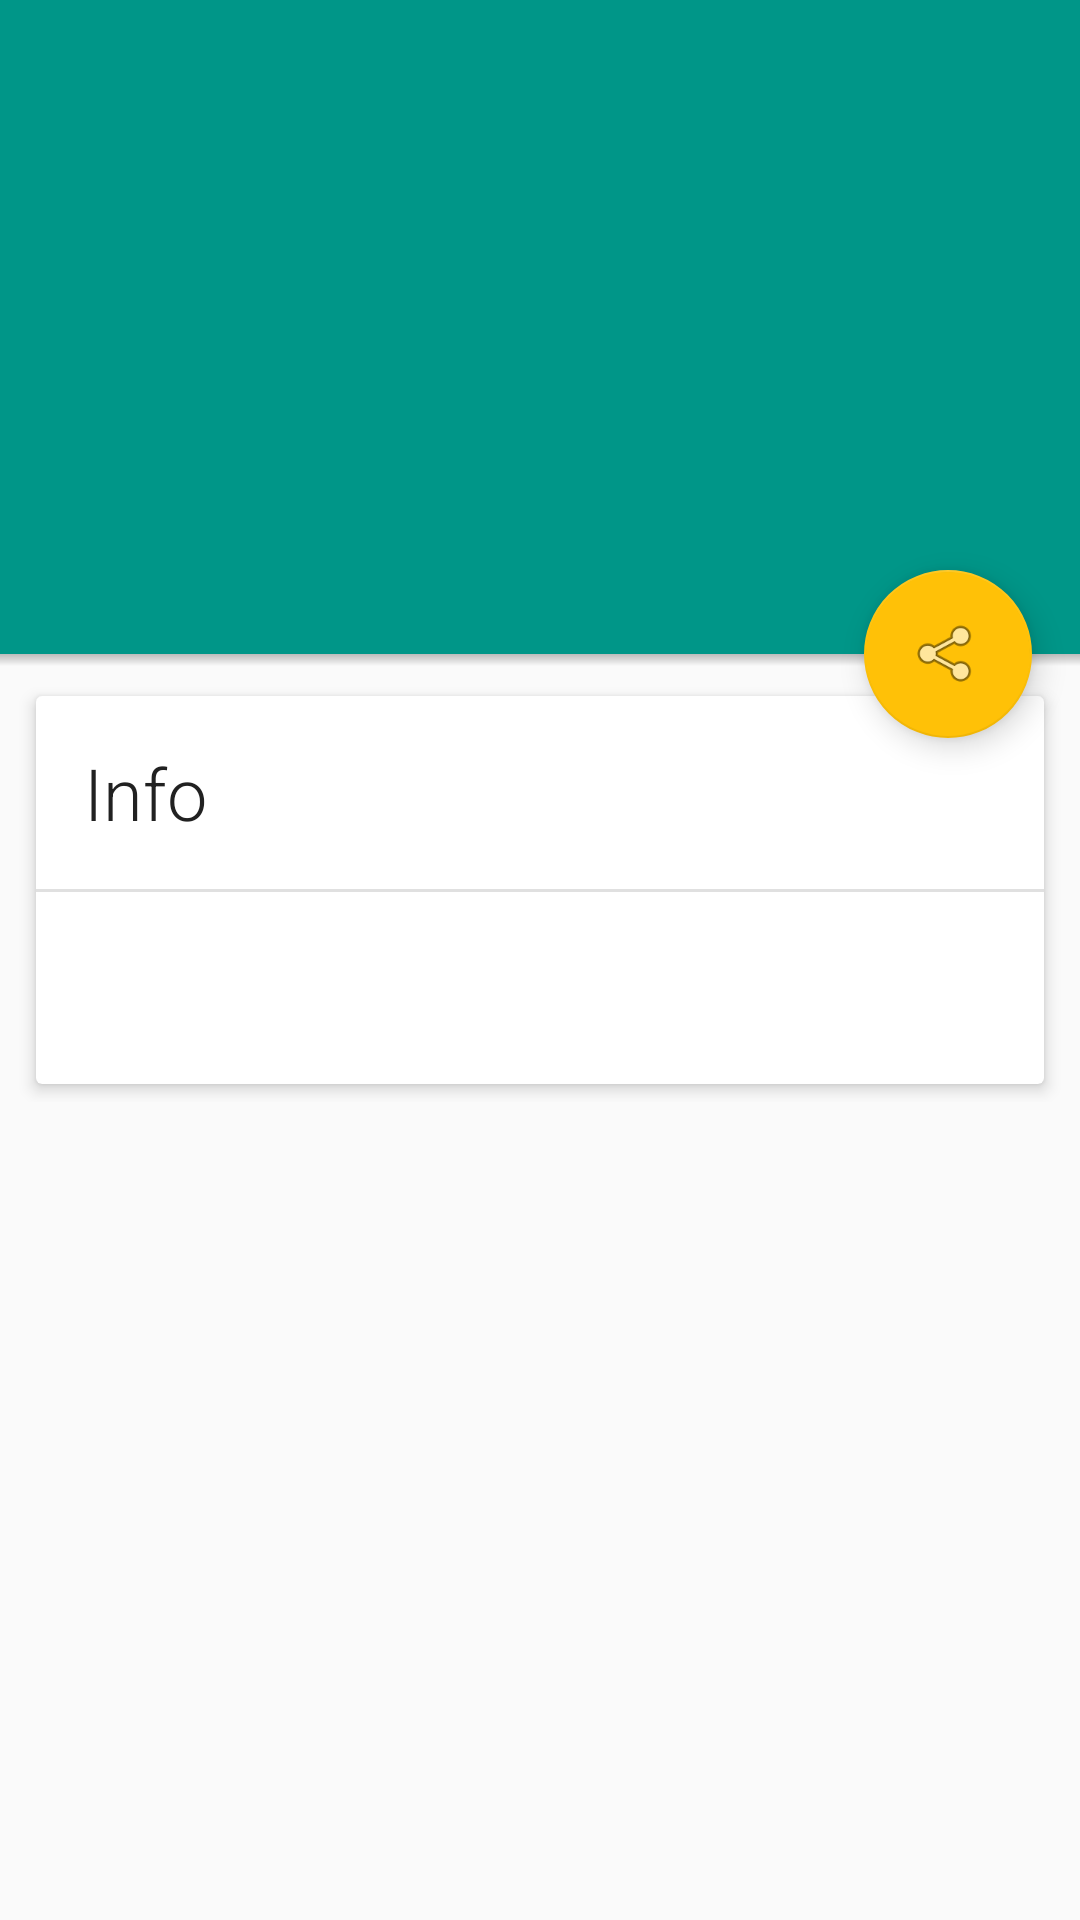

Icon click points for this 1080*1920 phone screenshot, format [x,y]:
share: [948,654]
